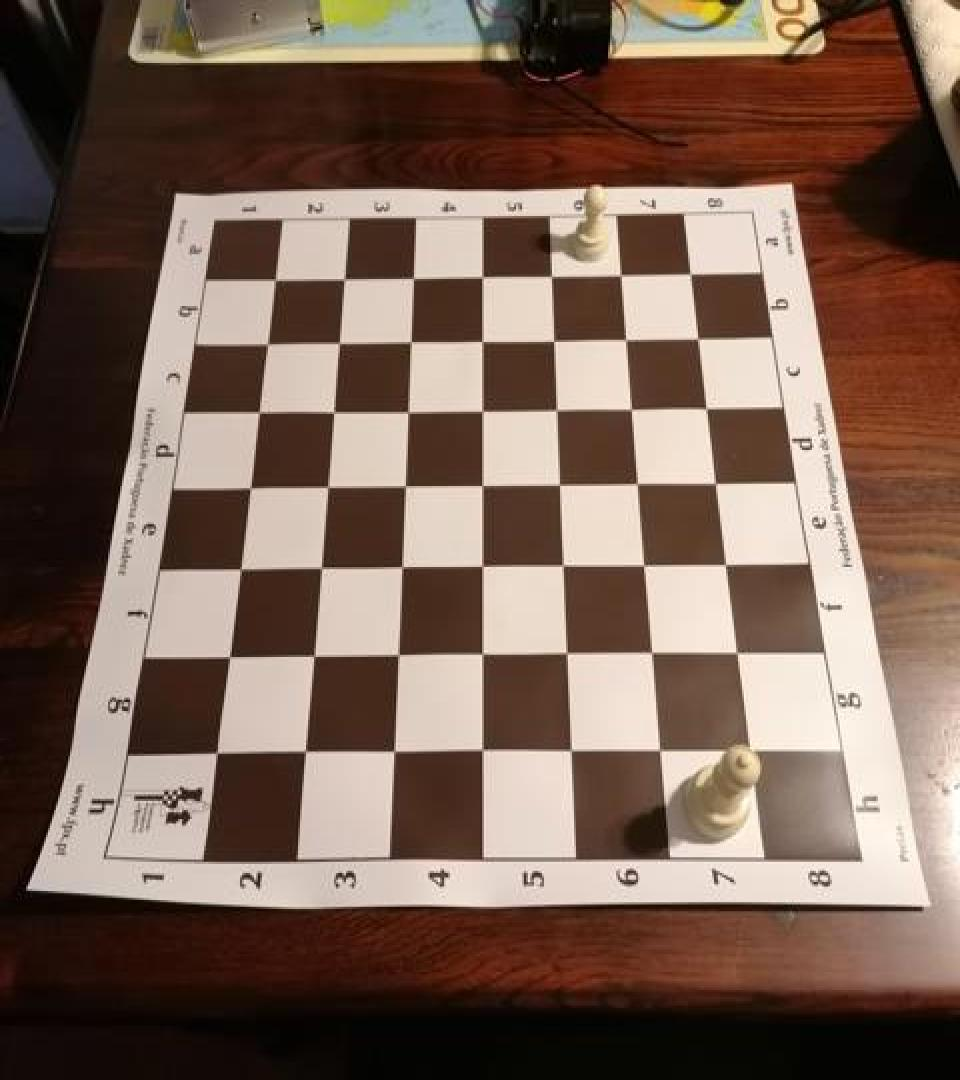xcorner: (628, 543, 660, 580), (545, 543, 577, 580), (463, 544, 495, 581), (382, 544, 414, 581), (301, 545, 333, 582), (221, 545, 253, 582), (673, 253, 705, 289), (603, 256, 635, 292), (533, 256, 565, 292), (463, 258, 495, 294), (395, 260, 427, 296), (326, 261, 358, 297), (258, 262, 290, 298), (681, 317, 713, 353), (608, 318, 640, 354), (536, 320, 568, 356), (463, 320, 495, 356), (392, 323, 424, 359), (321, 324, 353, 360), (250, 325, 282, 361), (690, 386, 722, 422), (614, 387, 646, 423), (539, 388, 571, 424), (463, 389, 495, 425), (315, 392, 347, 428), (241, 392, 273, 428), (700, 460, 732, 496), (621, 461, 653, 497), (542, 462, 574, 498), (463, 464, 495, 500), (385, 464, 417, 500), (308, 466, 340, 502), (231, 466, 263, 502), (711, 542, 743, 578), (723, 632, 755, 668), (636, 632, 668, 668), (549, 632, 581, 668), (463, 632, 495, 668), (378, 634, 410, 670), (293, 634, 325, 670), (210, 634, 242, 670), (736, 730, 768, 766), (644, 730, 676, 766), (553, 730, 585, 766), (463, 730, 495, 766), (374, 730, 406, 766), (285, 730, 317, 766), (197, 730, 229, 766), (389, 391, 421, 426)
